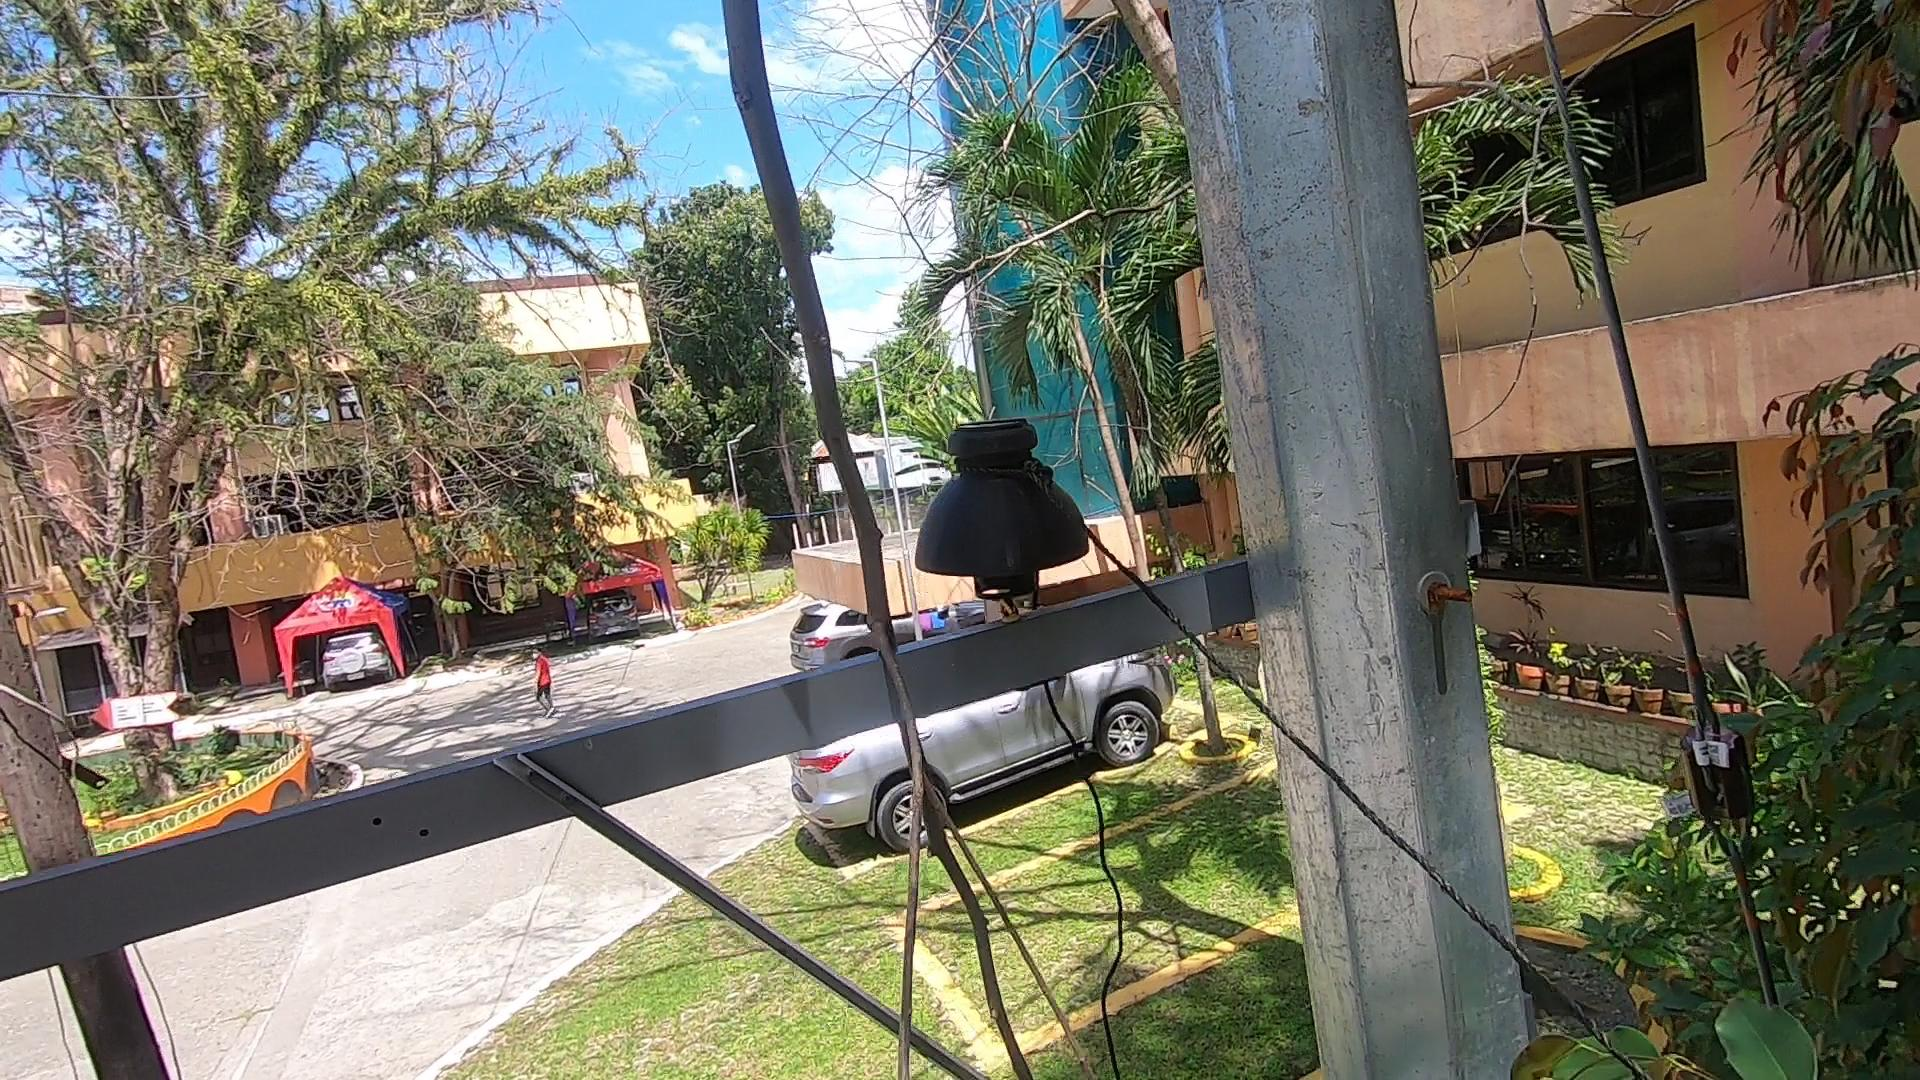tree branch: (665, 1, 1088, 1077)
